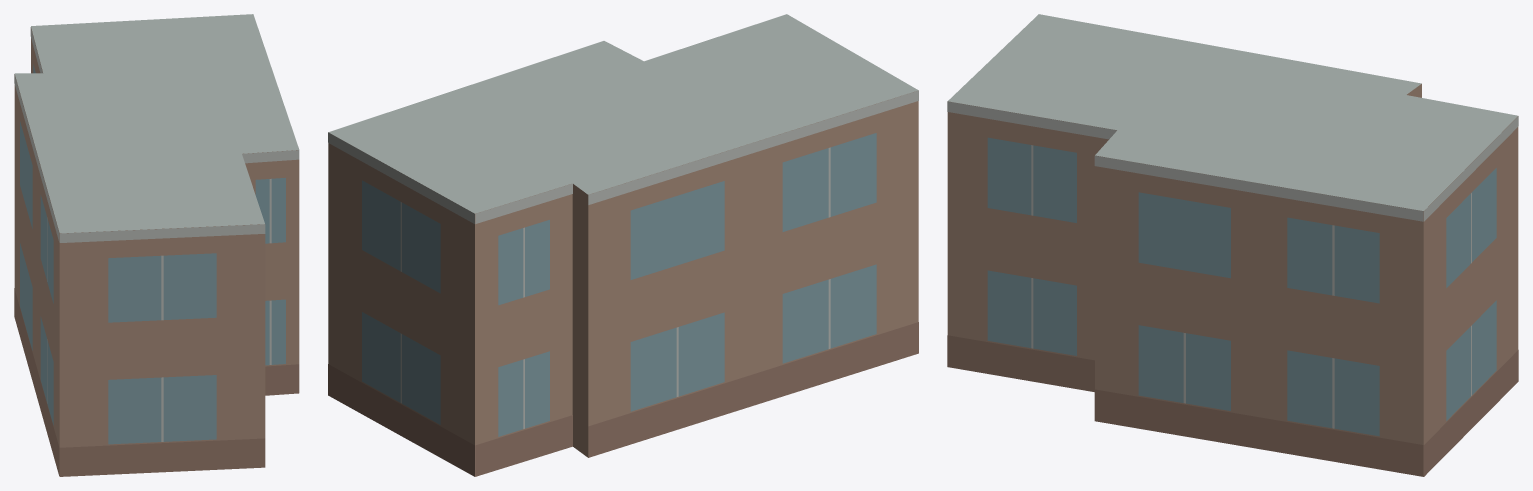
File: survey-upis-32719666.glb
3 renders of one model, left to right at view 1: azimuth 30°, elevation 25°; view 2: azimuth 150°, elevation 25°; view 3: azimuth 270°, elevation 25°, orthographic. The views are drawn at different scales.
Visible parts, largest first — view 1: survey-upis-32719666.tmp; view 2: survey-upis-32719666.tmp; view 3: survey-upis-32719666.tmp.
Boxes of the visible parts, x1=… form: survey-upis-32719666.tmp: x1=14, y1=14, x2=299, y2=476; survey-upis-32719666.tmp: x1=328, y1=14, x2=918, y2=476; survey-upis-32719666.tmp: x1=947, y1=14, x2=1518, y2=476.
Bounding box in the file's own units: 9.72 × 6.1 × 11.89.
